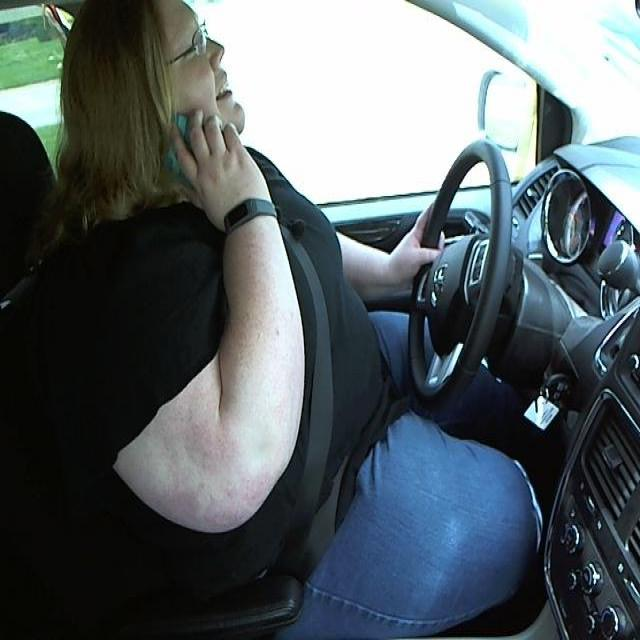using_phone: (17, 9, 309, 216)
